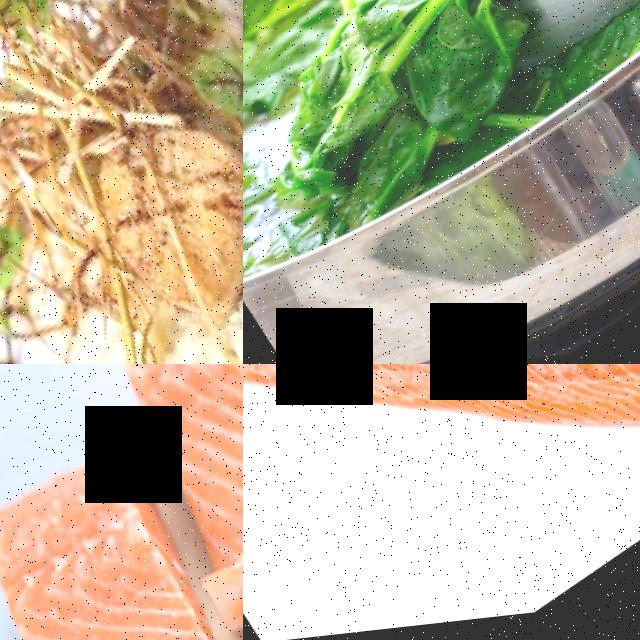salmon: (243, 364, 640, 640), (0, 422, 243, 640), (74, 364, 243, 640)
spinach: (384, 0, 550, 154), (312, 72, 405, 157), (331, 0, 437, 67)
